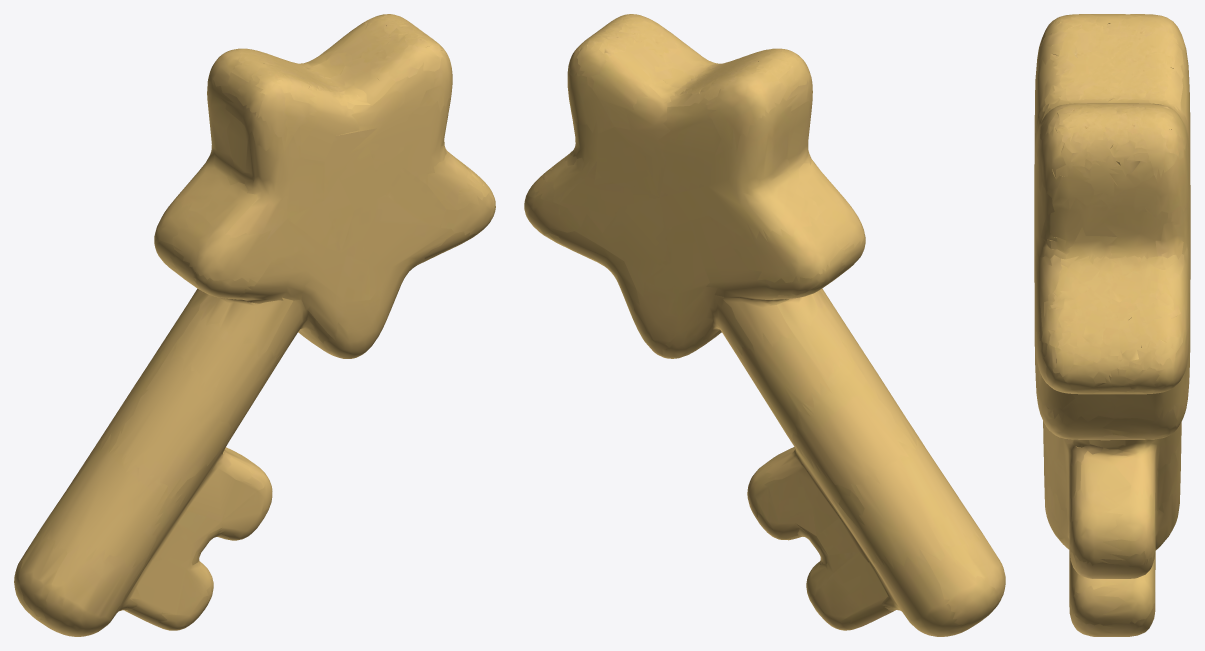
Rendered from key-t5-v1.glb.
3 views of the same model, side by side, from view 1: azimuth 30°, elevation 25°; view 2: azimuth 150°, elevation 25°; view 3: azimuth 270°, elevation 25° (orthographic). The views are drawn at different scales.
Visible parts, largest first — view 1: mesh_node; view 2: mesh_node; view 3: mesh_node.
Boxes of the visible parts, x1,y1,x2,y2 form: mesh_node: (14, 14, 495, 636); mesh_node: (524, 14, 1005, 636); mesh_node: (1034, 14, 1190, 636).
Size of the model in its own units: 1.68 by 1.9 by 0.4021.
1 material, 1 textured.
